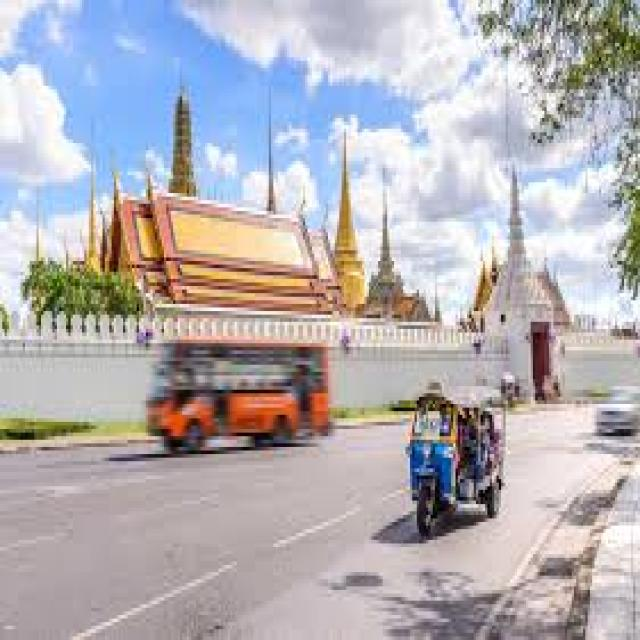matatu: (137, 328, 345, 482)
tuktuk: (399, 372, 519, 538)
